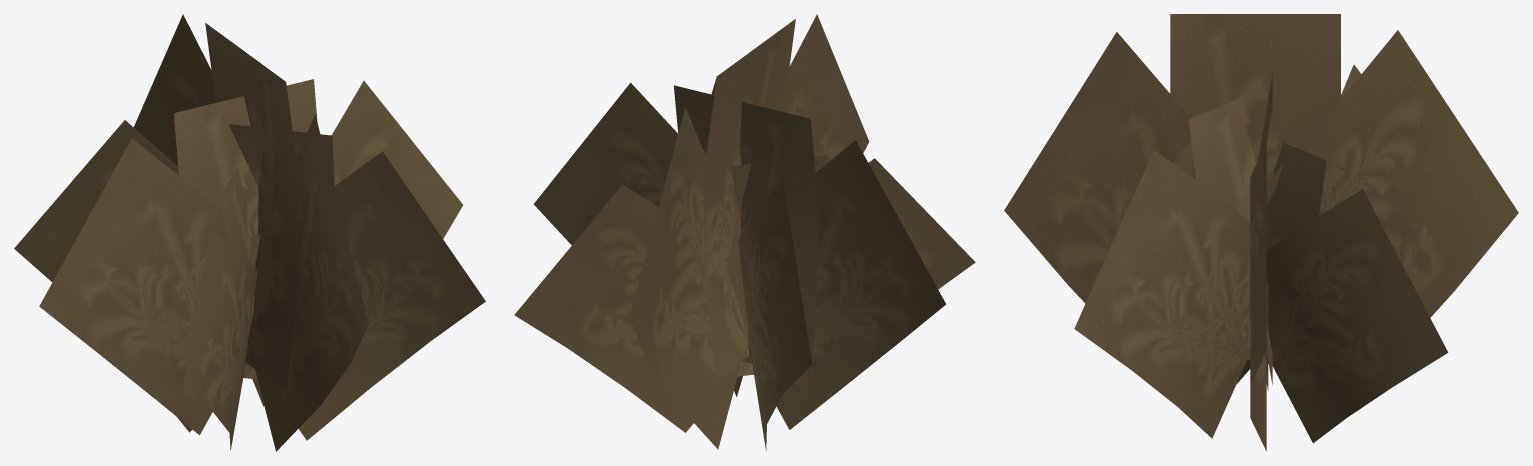
The model's file is SM_Plant_2.fbx.
3 views of the same model, side by side, from view 1: azimuth 30°, elevation 25°; view 2: azimuth 150°, elevation 25°; view 3: azimuth 270°, elevation 25° (orthographic). The views are drawn at different scales.
Parts seen in each view (by area): view 1: SM_Plant_2_LOD0; view 2: SM_Plant_2_LOD0; view 3: SM_Plant_2_LOD0.
Boxes of the visible parts, x1,y1,x2,y2 form: SM_Plant_2_LOD0: (14,14,485,451); SM_Plant_2_LOD0: (514,14,975,451); SM_Plant_2_LOD0: (1004,14,1518,451).
Size of the model in its own units: 58.2 by 58.2 by 51.13.
1 material, 1 textured.
